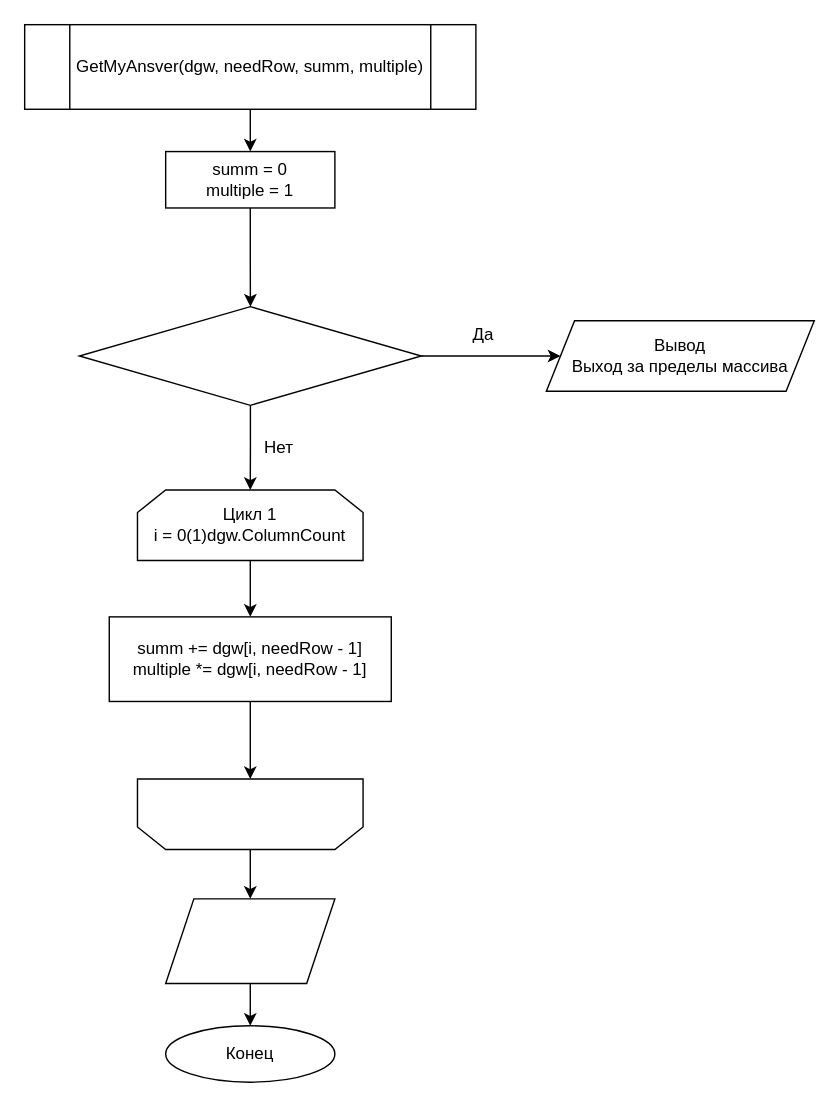
This 839x1107 diagram has some shape labels left out. The shapes that lost their labels are listed below. From the top down, each one's centre as x and y in pixels, then its label:
At (249,355): "needRow > dgw.RowCount".
At (249,814): "Цикл 1".
At (249,940): "Вывод summ multiple".
